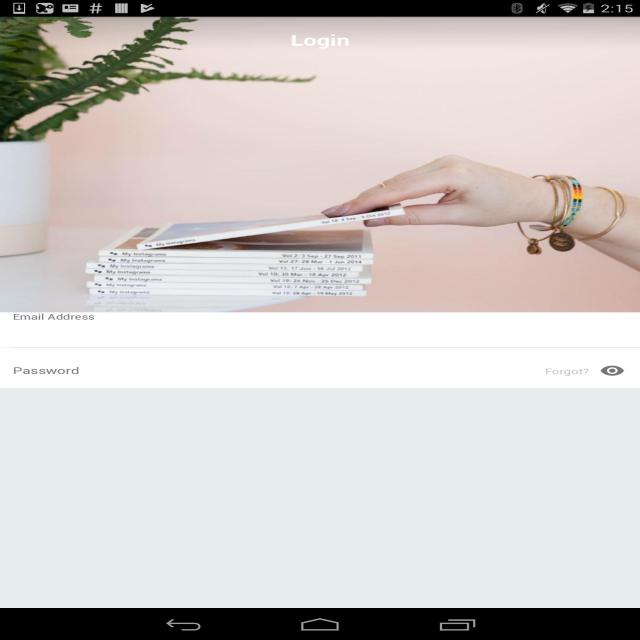button: (594, 360, 630, 382)
field: (0, 348, 640, 390), (1, 312, 640, 348)
heading: (281, 29, 354, 51)
image: (0, 19, 640, 313)
label: (1, 311, 101, 322), (5, 366, 86, 376), (538, 364, 590, 377)
